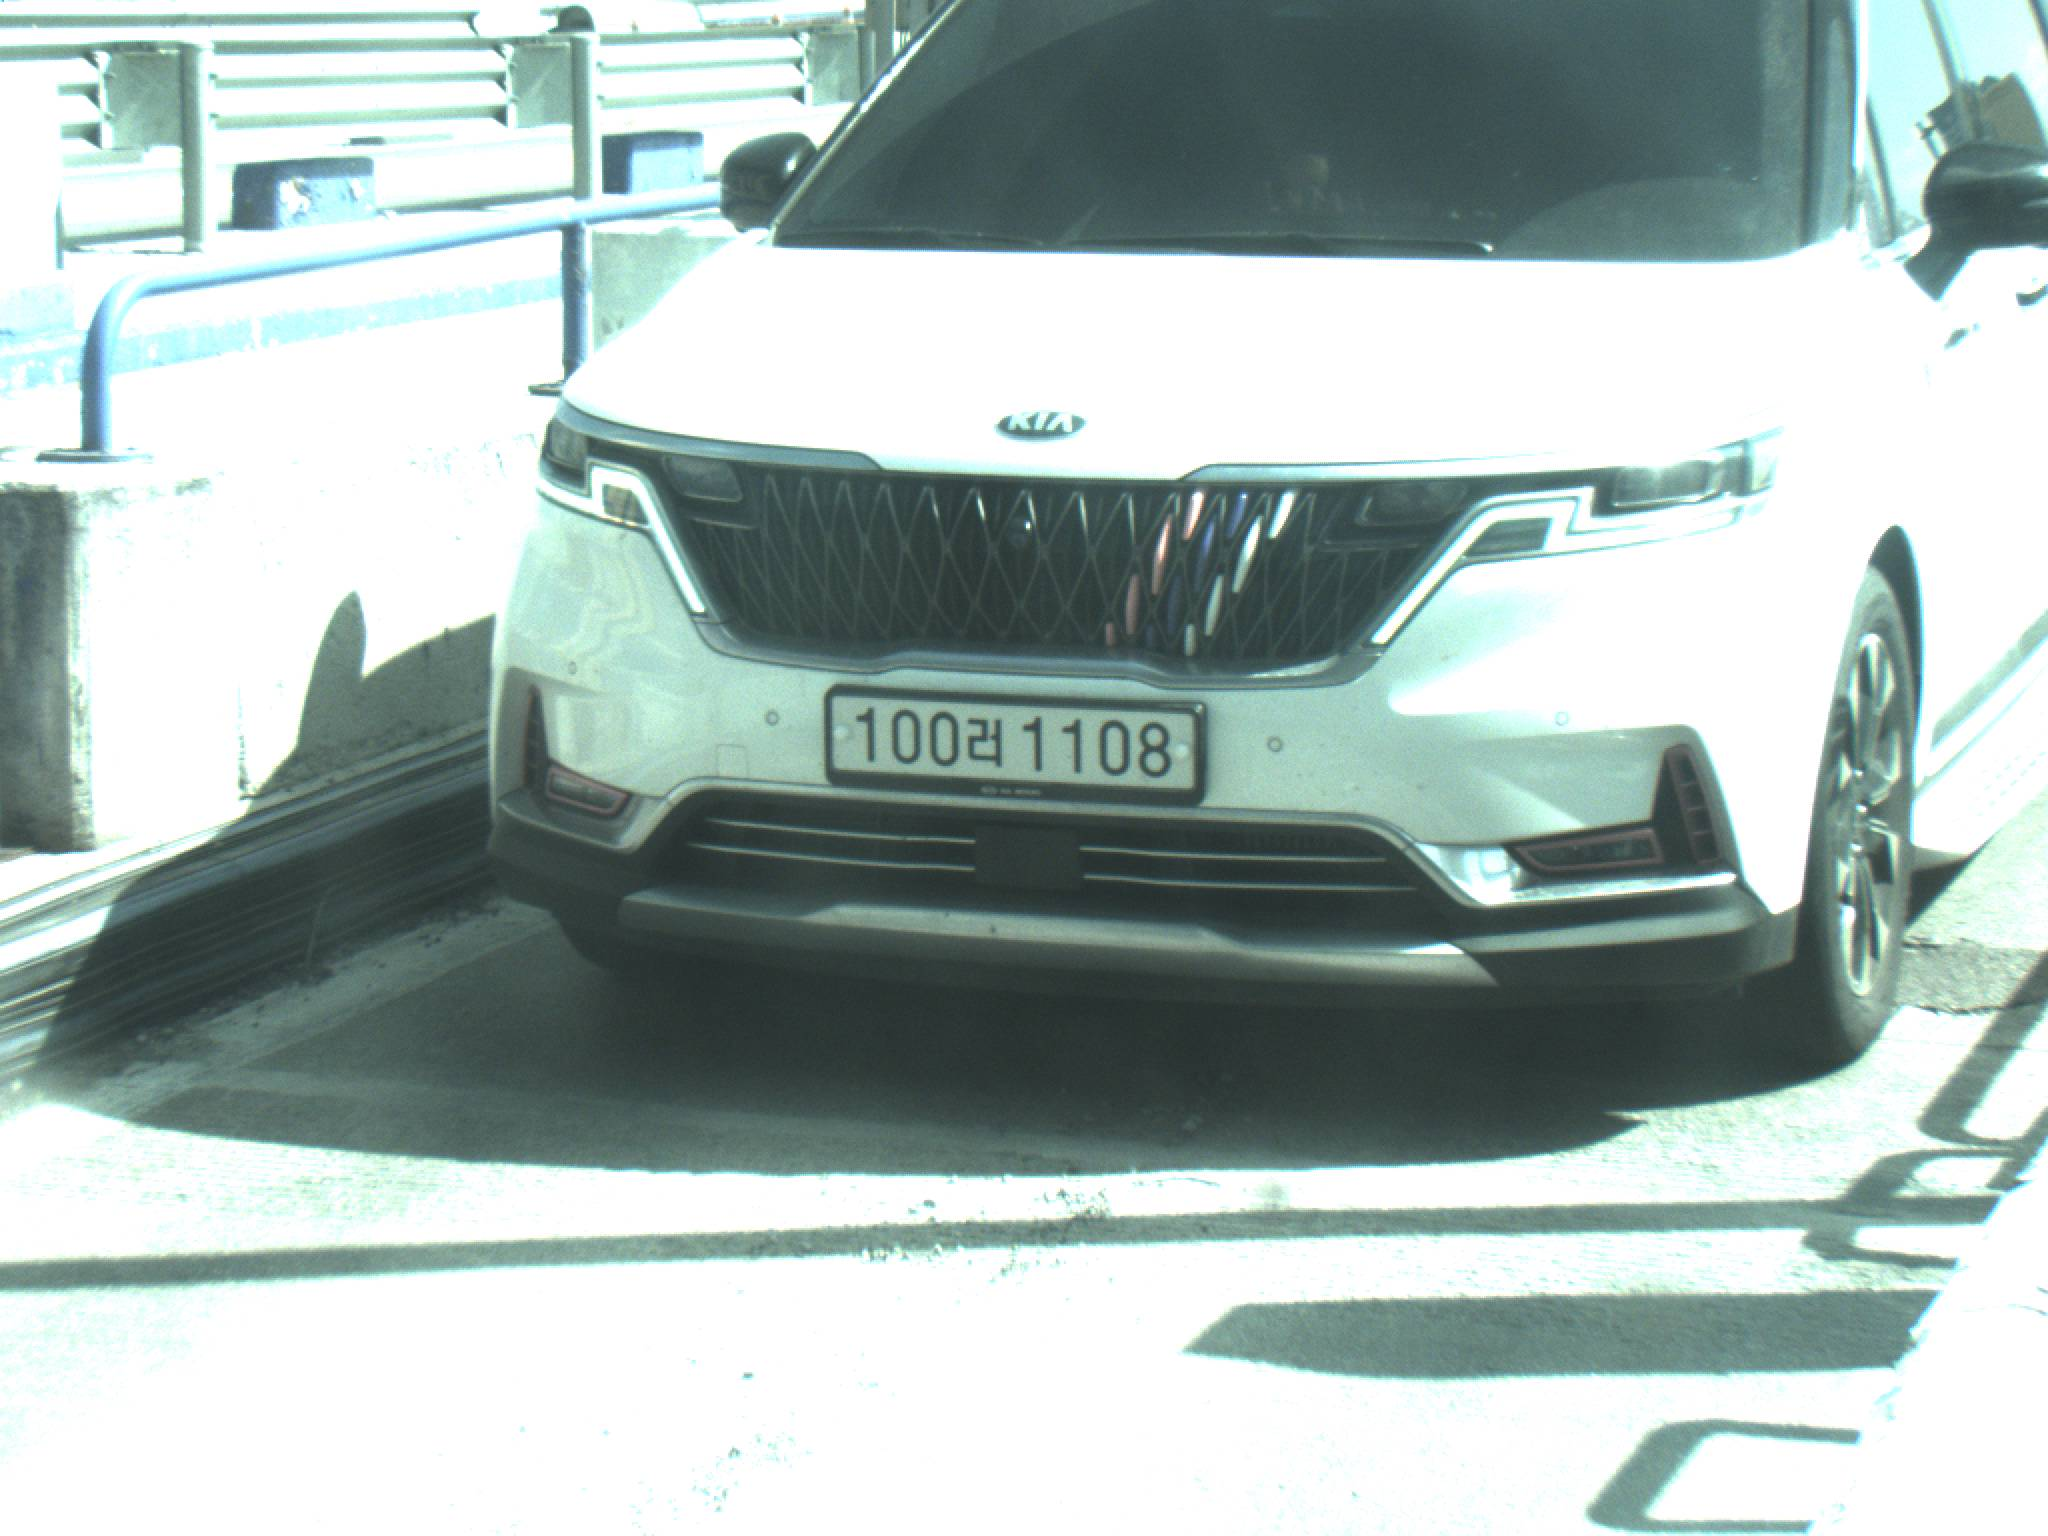car: (474, 6, 2044, 1074)
plate: (823, 681, 1208, 806)
